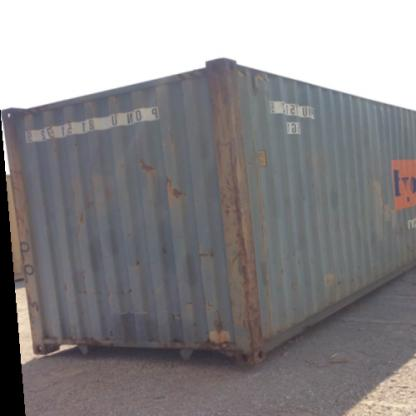Damage: (217, 129, 263, 294), (364, 179, 397, 241), (203, 295, 230, 354), (235, 66, 270, 94), (162, 168, 188, 204), (72, 194, 96, 229), (322, 268, 362, 286), (135, 147, 155, 178), (127, 245, 146, 269), (194, 245, 214, 264)
